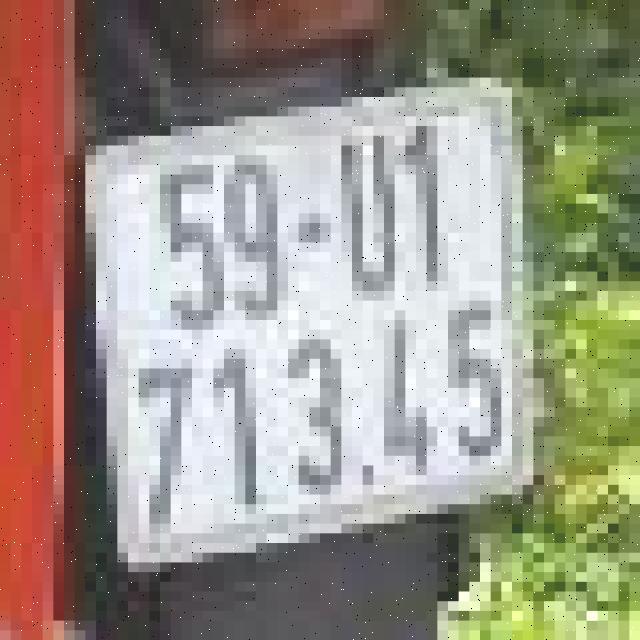1: (400, 117, 475, 300), (214, 349, 278, 514)
3: (283, 334, 357, 500)
4: (373, 315, 448, 480)
5: (144, 150, 229, 334), (448, 296, 512, 470)
7: (117, 359, 203, 533)
9: (230, 140, 294, 324)
U: (331, 126, 405, 301)
